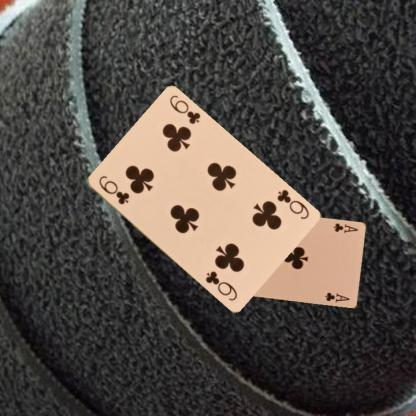6c: (274, 186, 310, 220), (95, 173, 130, 206)
Ac: (330, 221, 359, 234)
